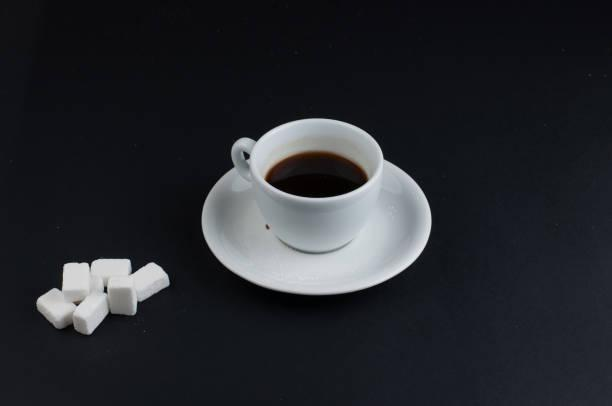cup-handle: (230, 116, 385, 254)
